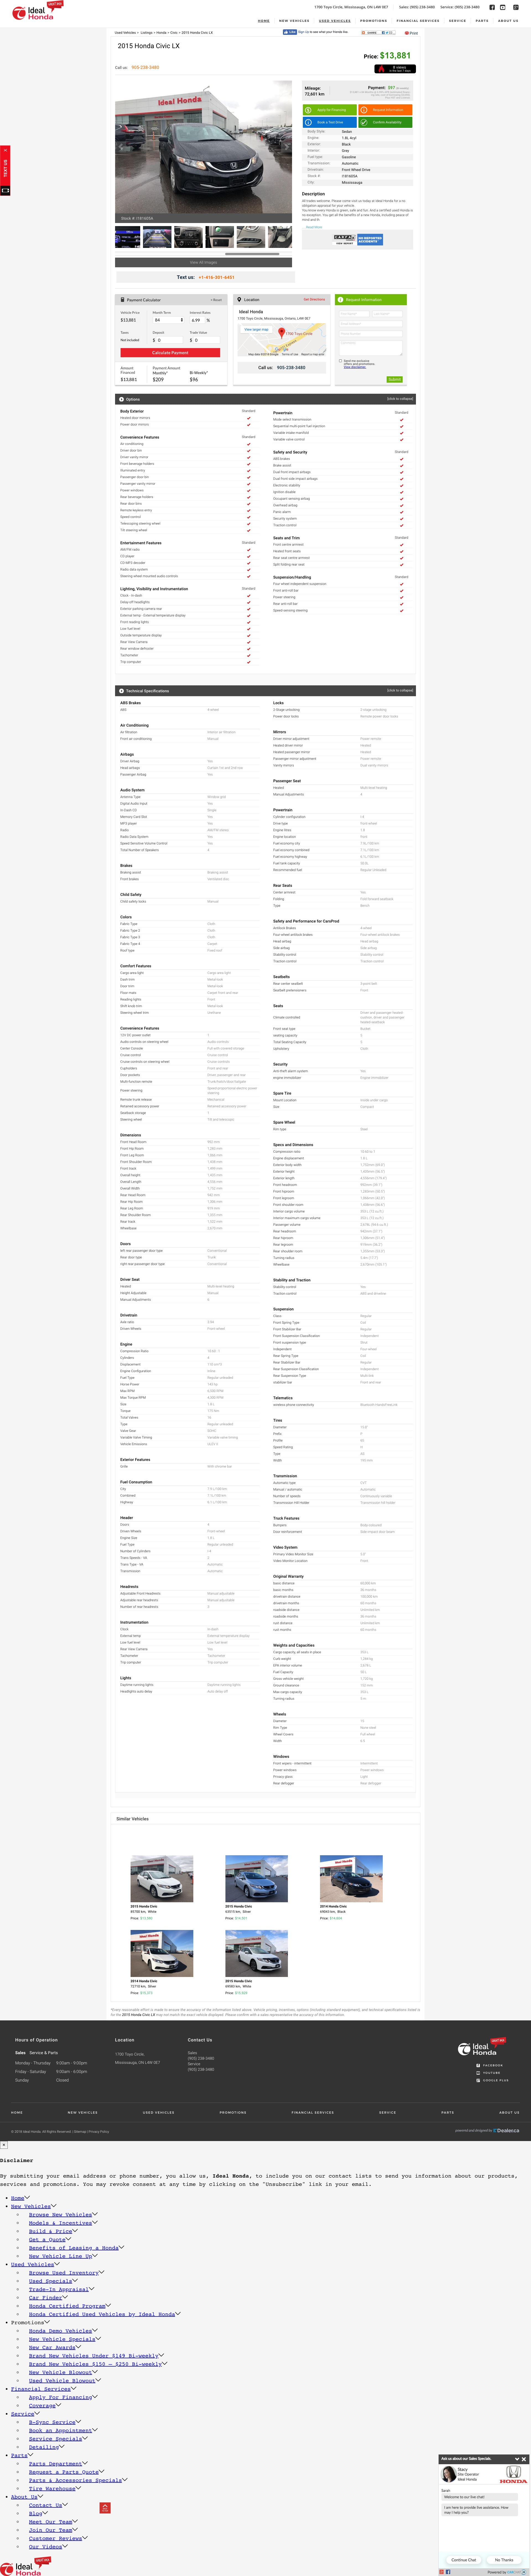car: (284, 145, 289, 151)
